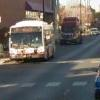Bus: (2, 18, 60, 62)
